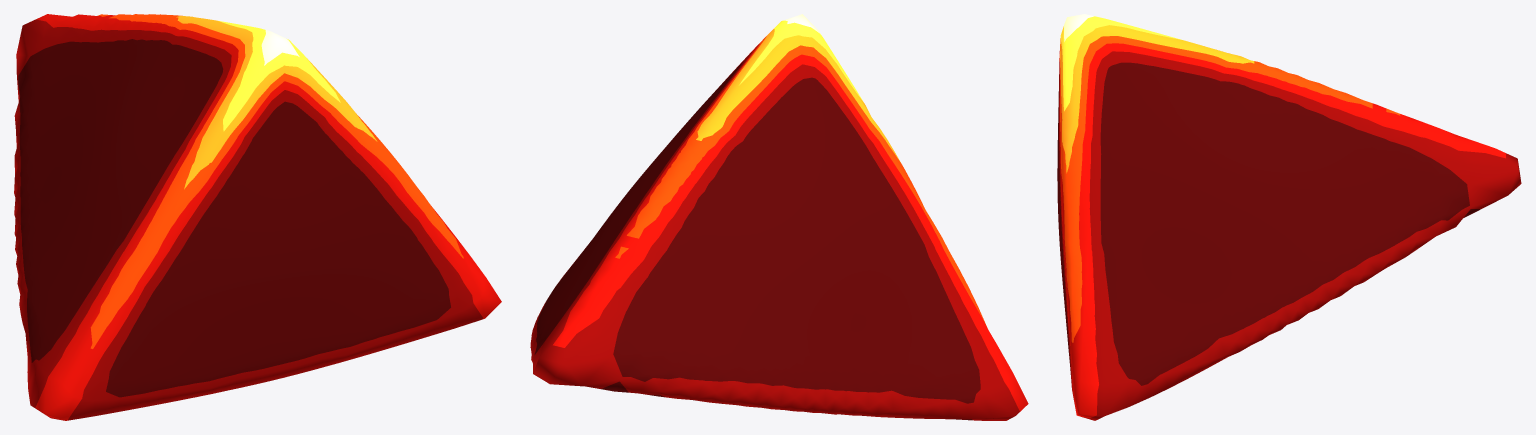
Rendered from molten_crystal_79.glb.
The picture shows the model from 3 angles, left to right: view 1: azimuth 30°, elevation 25°; view 2: azimuth 150°, elevation 25°; view 3: azimuth 270°, elevation 25°; orthographic projection. The views are drawn at different scales.
Parts seen in each view (by area): view 1: molten_crystal_79; view 2: molten_crystal_79; view 3: molten_crystal_79.
Boxes of the visible parts, x1=… form: molten_crystal_79: x1=14, y1=14, x2=501, y2=420; molten_crystal_79: x1=530, y1=14, x2=1028, y2=420; molten_crystal_79: x1=1057, y1=14, x2=1521, y2=420.
Bounding box in the file's own units: 21.5 × 15.46 × 20.5.
